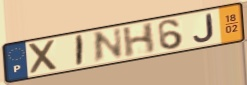6: (157, 18, 186, 52)
H: (121, 20, 157, 59)
I: (75, 33, 85, 68)
J: (192, 12, 216, 43)
N: (92, 26, 125, 66)
X: (27, 38, 60, 76)
